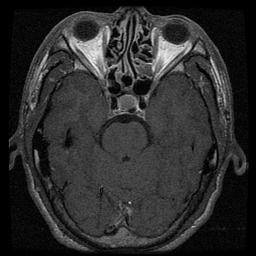Pituirity_tumour: (117, 94, 138, 111)
